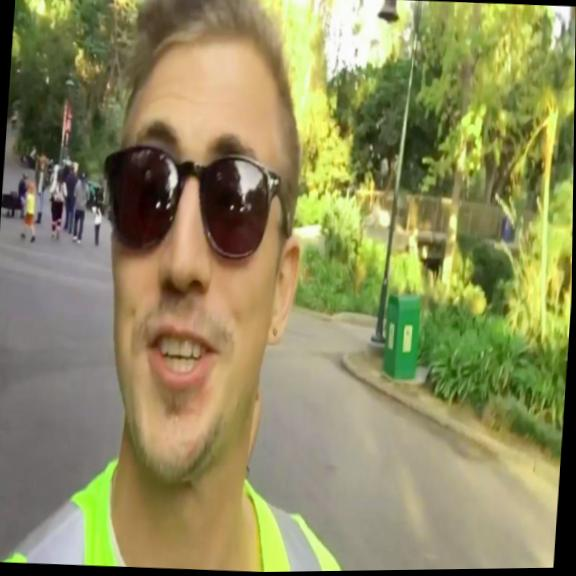safety_vest: (0, 446, 356, 576)
